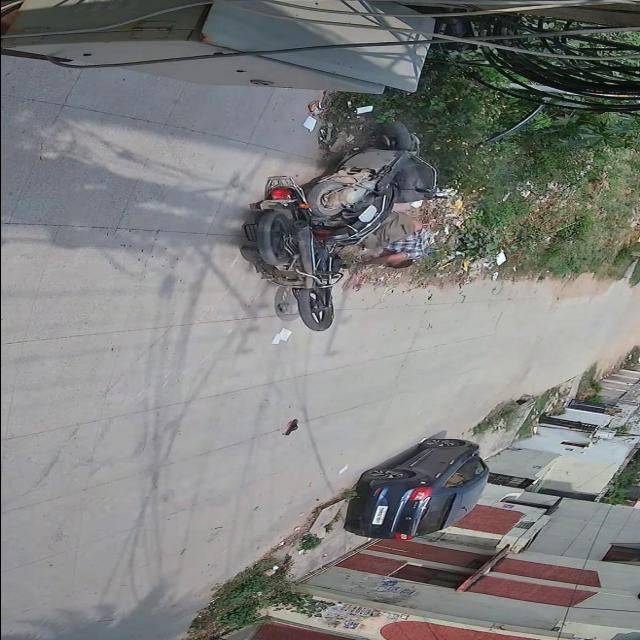accident: (240, 113, 461, 337)
